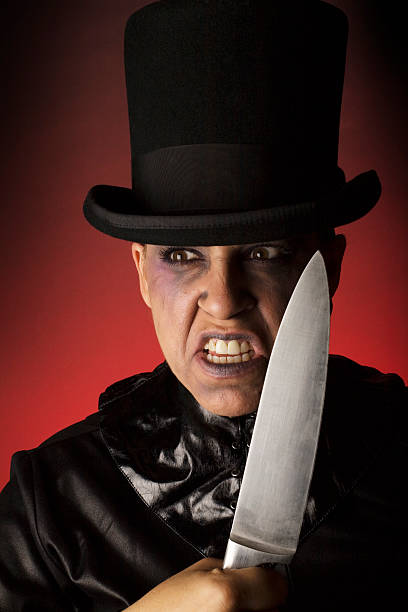knife: (230, 246, 334, 561)
